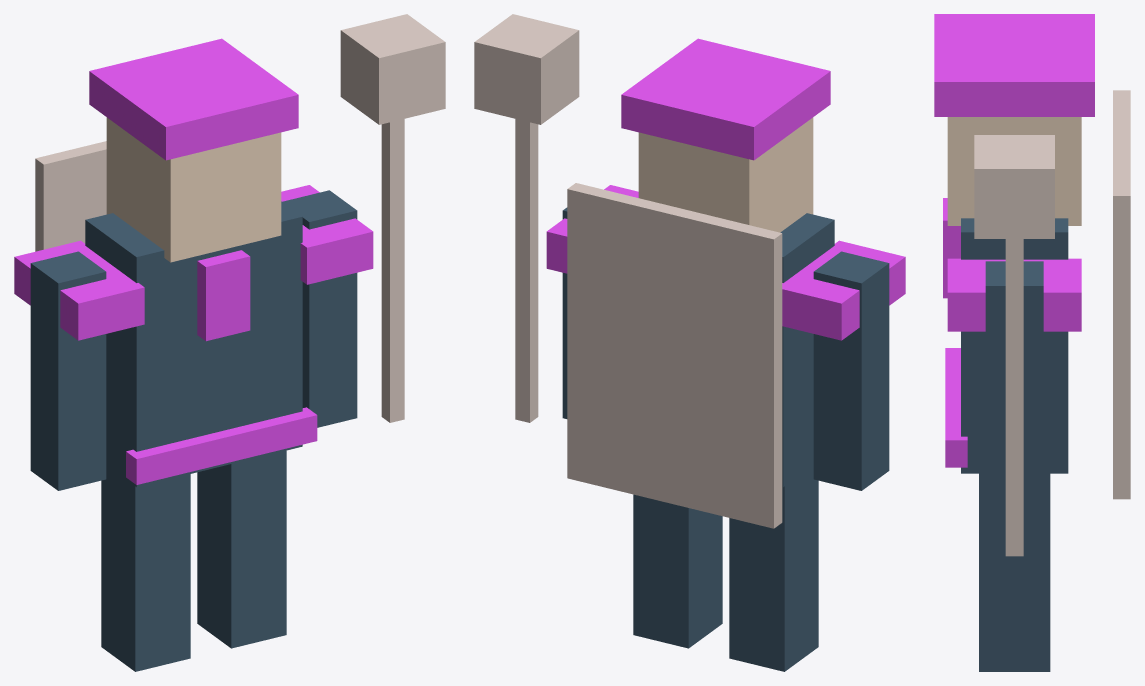
Rendered from 02_selka_wayfare_keeper_near_toll.glb.
3 renders of one model, left to right at view 1: azimuth 30°, elevation 25°; view 2: azimuth 150°, elevation 25°; view 3: azimuth 270°, elevation 25°, orthographic. The views are drawn at different scales.
Visible parts, largest first — view 1: Selka Wayfare, Keeper near Toll; view 2: Selka Wayfare, Keeper near Toll; view 3: Selka Wayfare, Keeper near Toll.
Part boxes in pixels (box(x1,y1,x2,y2)): Selka Wayfare, Keeper near Toll: box(14, 14, 445, 671); Selka Wayfare, Keeper near Toll: box(474, 14, 905, 671); Selka Wayfare, Keeper near Toll: box(934, 14, 1130, 671).
Size of the model in its own units: 1.06 by 1.48 by 0.4516.
